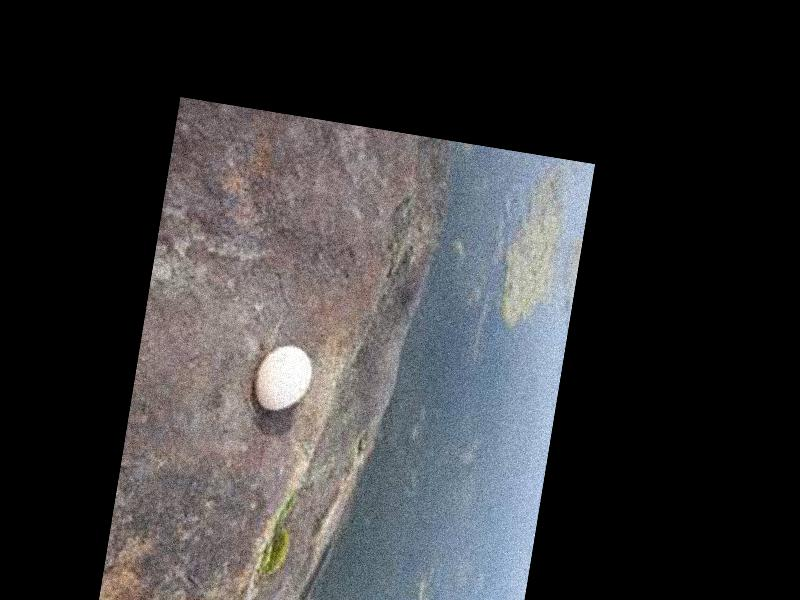Eggs: (252, 337, 317, 414)
